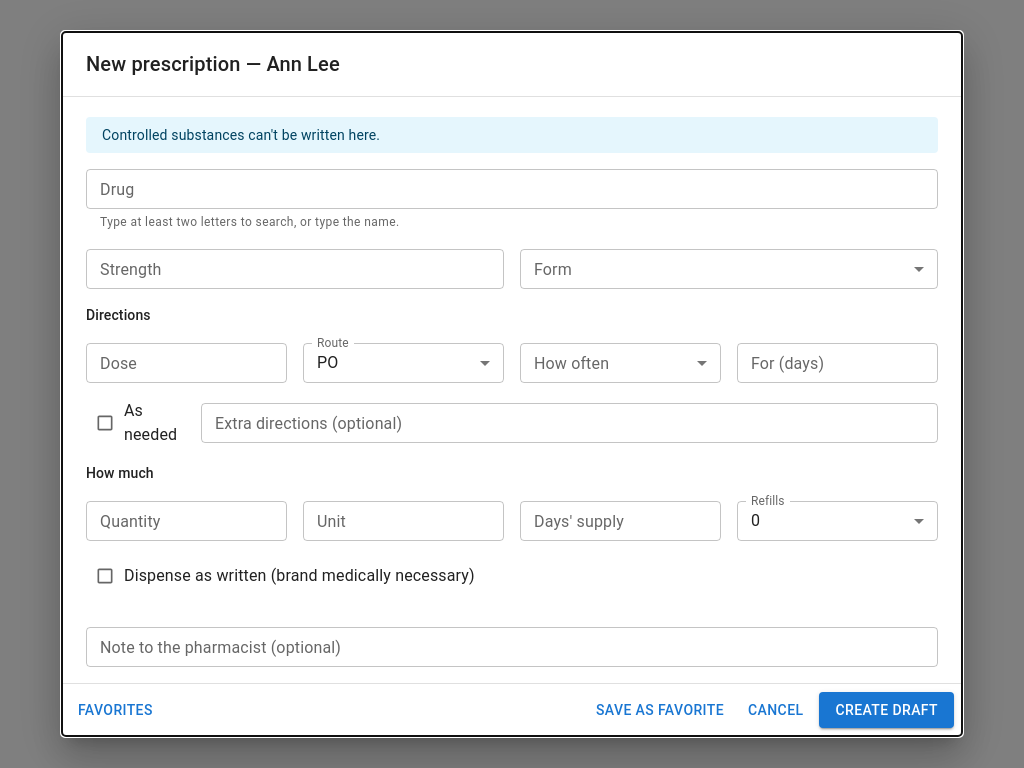
Test case: favorites › an empty favorites list explains how to add one
The width and height of the screenshot is (1024, 768).
Click the button with test id "rx-open-favorites" at (115, 710), box [70,692,161,728]
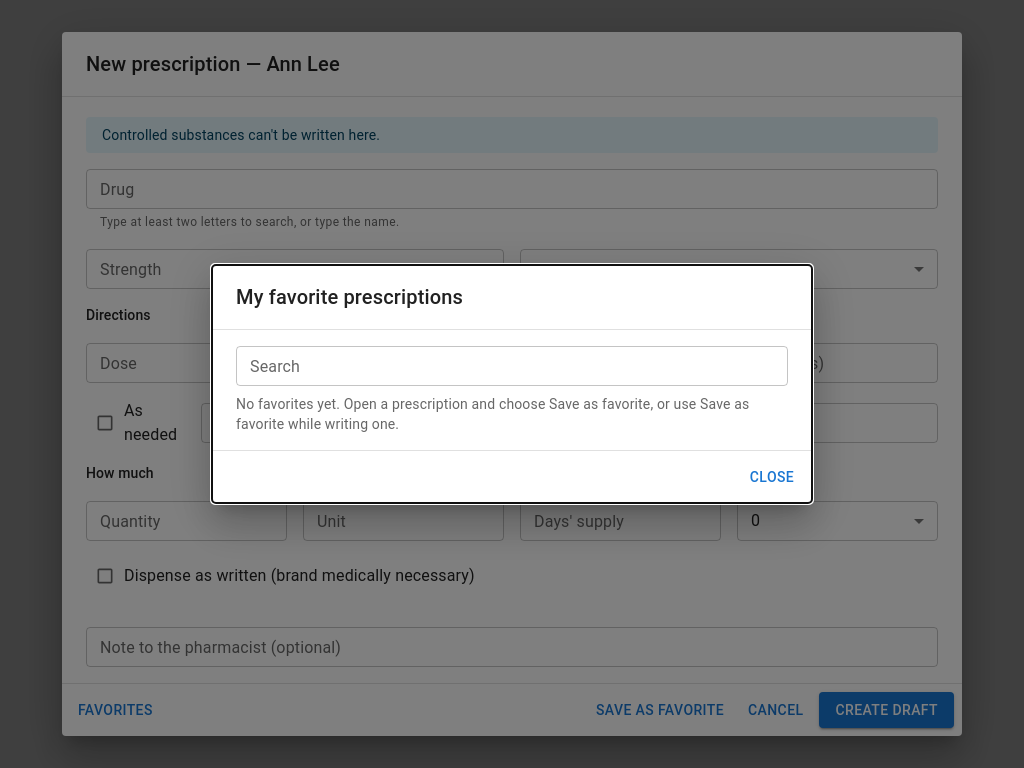
Check: the text with test id "rx-favorites-empty" shows "No favorites yet", box [236,396,749,432]
